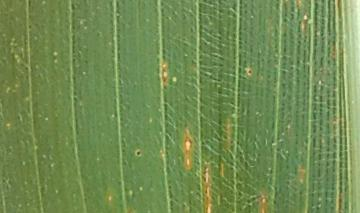tarspot: (132, 148, 144, 159), (246, 68, 255, 76)
